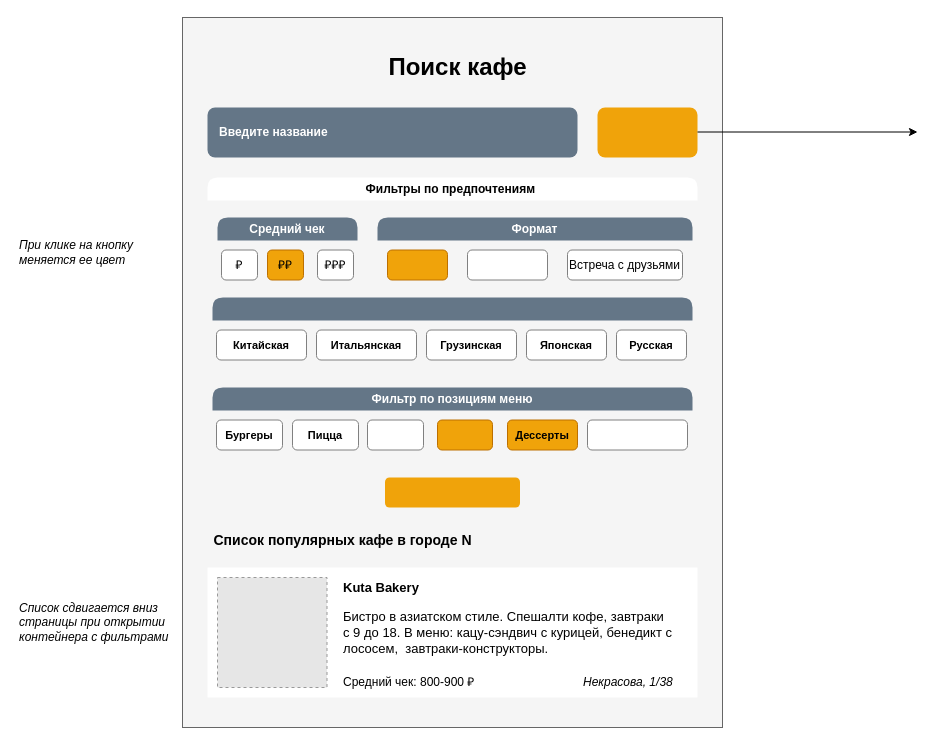
Some shapes in this 943 by 745 pixel diagram are drawn without their labels. Grey dashed boxes stand in for pictures. The shapes that lost their labels are listed below. From the top down, each one's box as (x1, y1, x2, y2) in pixels, then its label:
(597, 107, 697, 157): Кнопка "Найти"
(386, 249, 448, 280): Завтрак
(466, 249, 548, 280): Бизнес-ланч
(212, 297, 692, 370): Фильтр по кухне
(366, 419, 424, 450): Рамен
(436, 419, 492, 450): Кофе
(586, 419, 688, 450): Крафтовое пиво
(384, 477, 520, 507): Кнопка "Применить"
